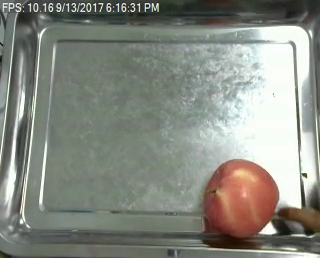Apple: (204, 158, 278, 238)
